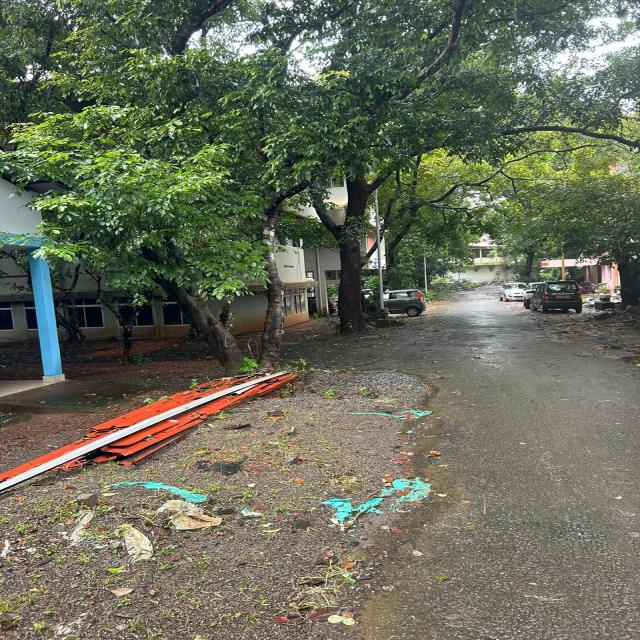tree ahead at: (292, 174, 405, 336)
